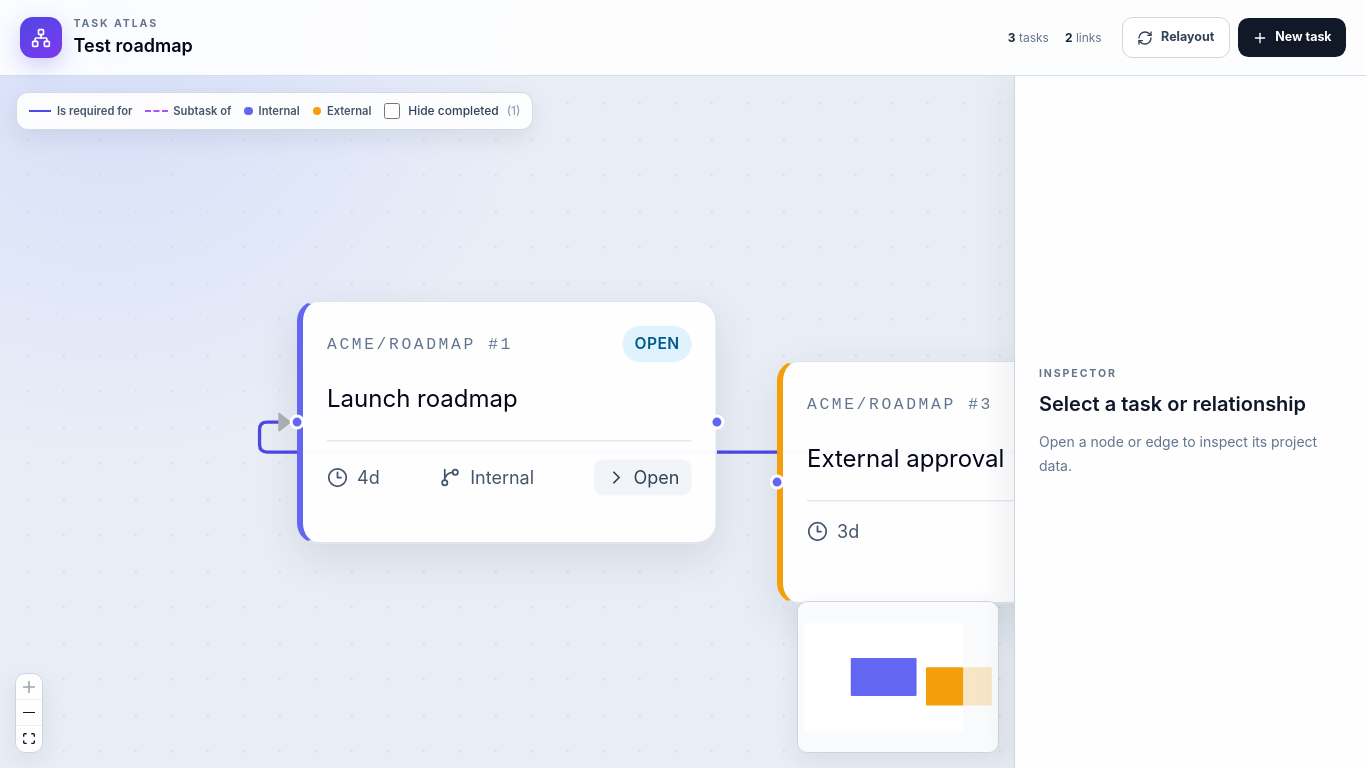
it: App › shows all task attributes when a node is selected
Click the button named "Select External approval" at (989, 457), box [807, 439, 1172, 475]
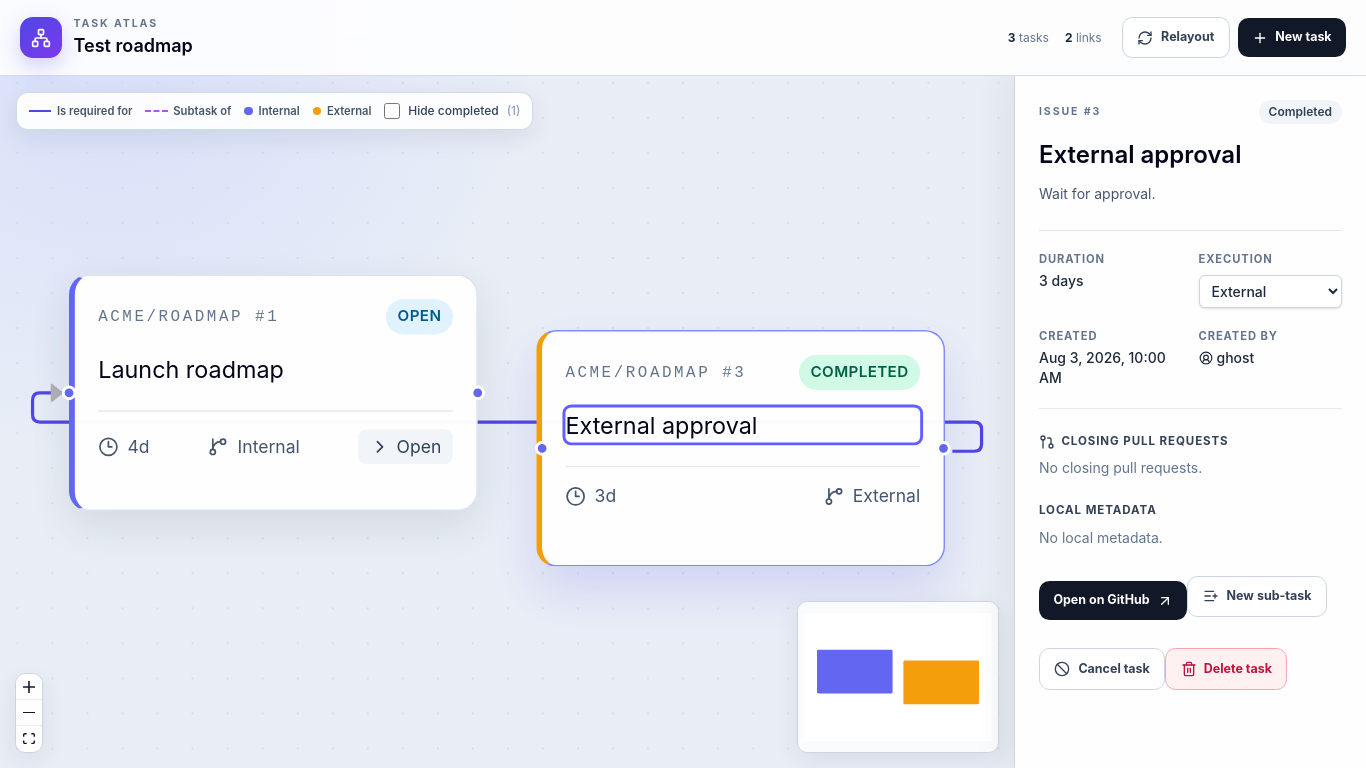
Expected: the heading "External approval" is shown, [1039, 140, 1241, 169]
Expected: the text "Wait for approval." is shown, [1039, 185, 1156, 202]
Expected: the text "3 days" is shown, [1039, 272, 1084, 289]
